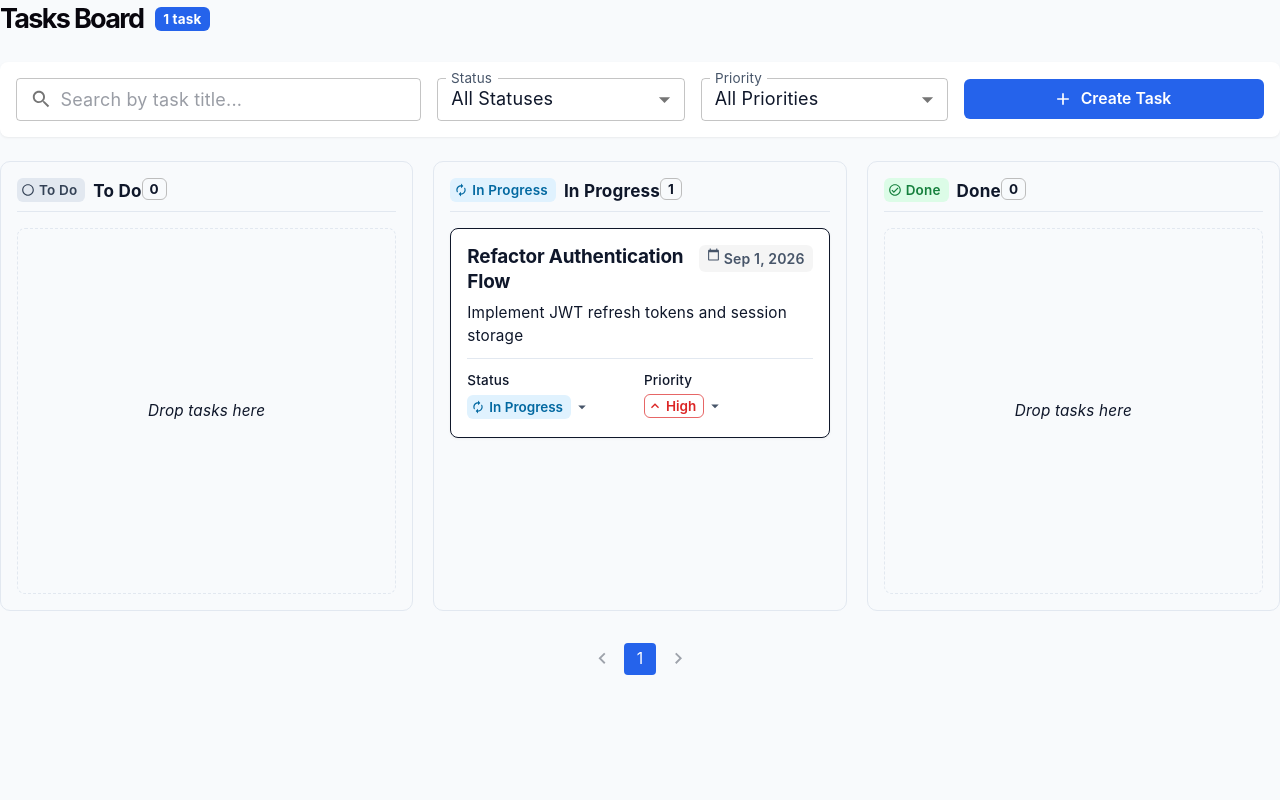
TaskForm Edit Task Functionality › task list update & filter preservation: executes PATCH request and refreshes query cache
This screenshot has width=1280, height=800.
# Open details modal by clicking task title
Click the heading "Refactor Authentication Flow" at (577, 270), box [467, 245, 687, 294]
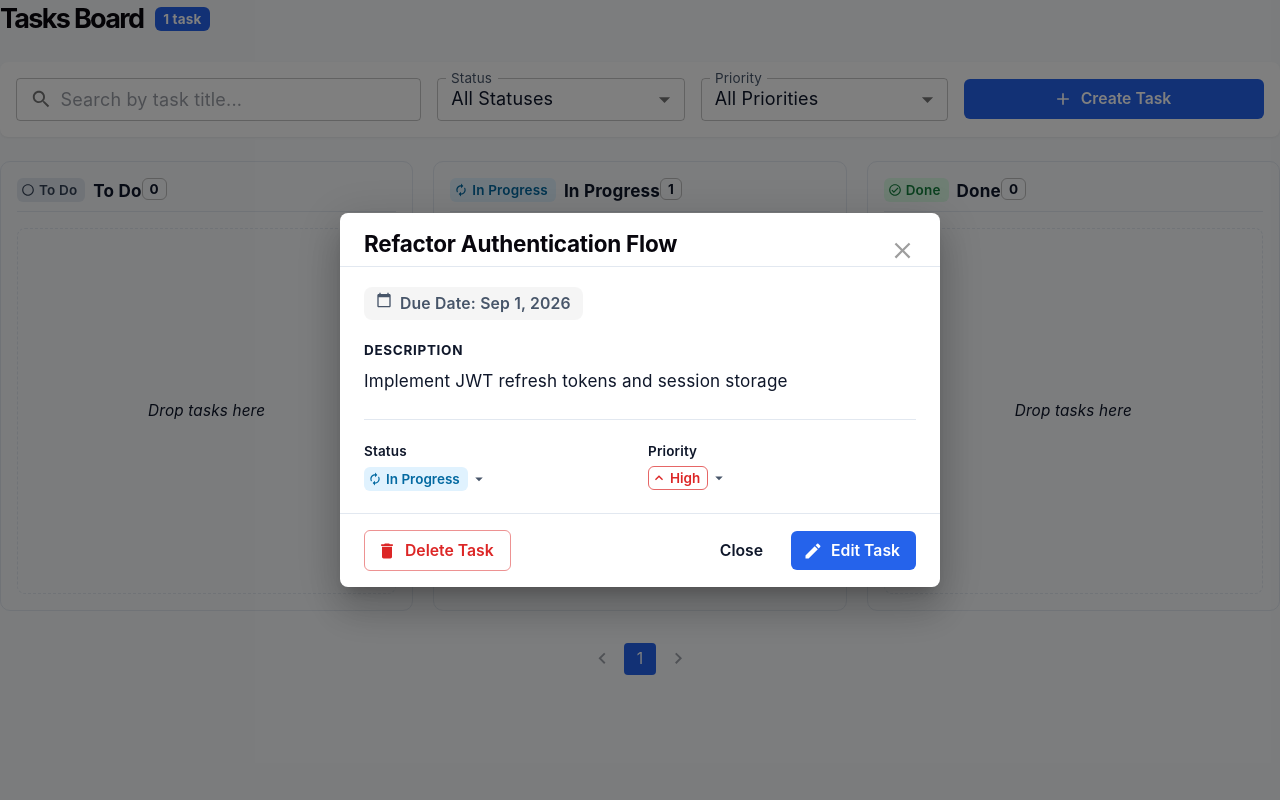
# Click Edit Task button inside details popup modal
Click the button "Edit Task" at (854, 551), box [791, 531, 916, 570]
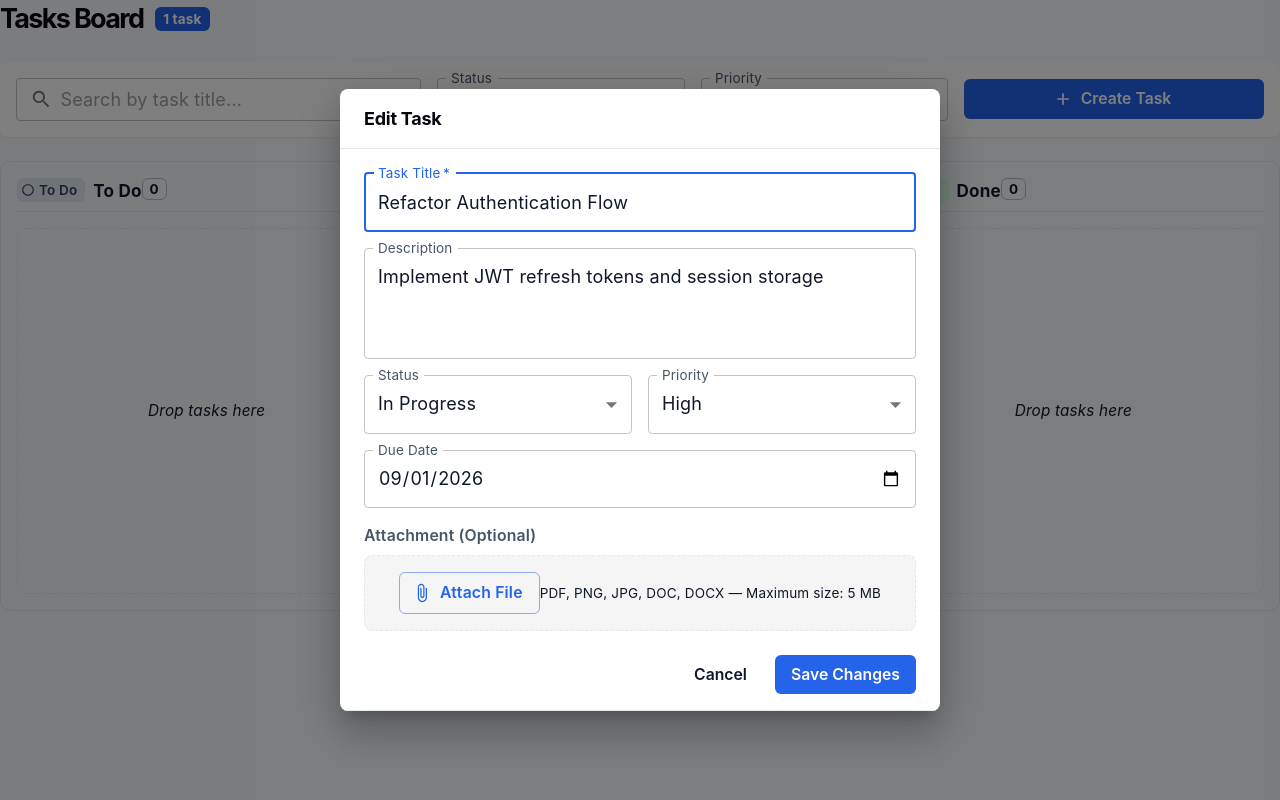
Now the heading "Edit Task" is shown, box [364, 108, 442, 129]
Replace the text in the field labelled "Task Title *" with "Updated Auth Flow" at (640, 202), box [364, 173, 916, 232]
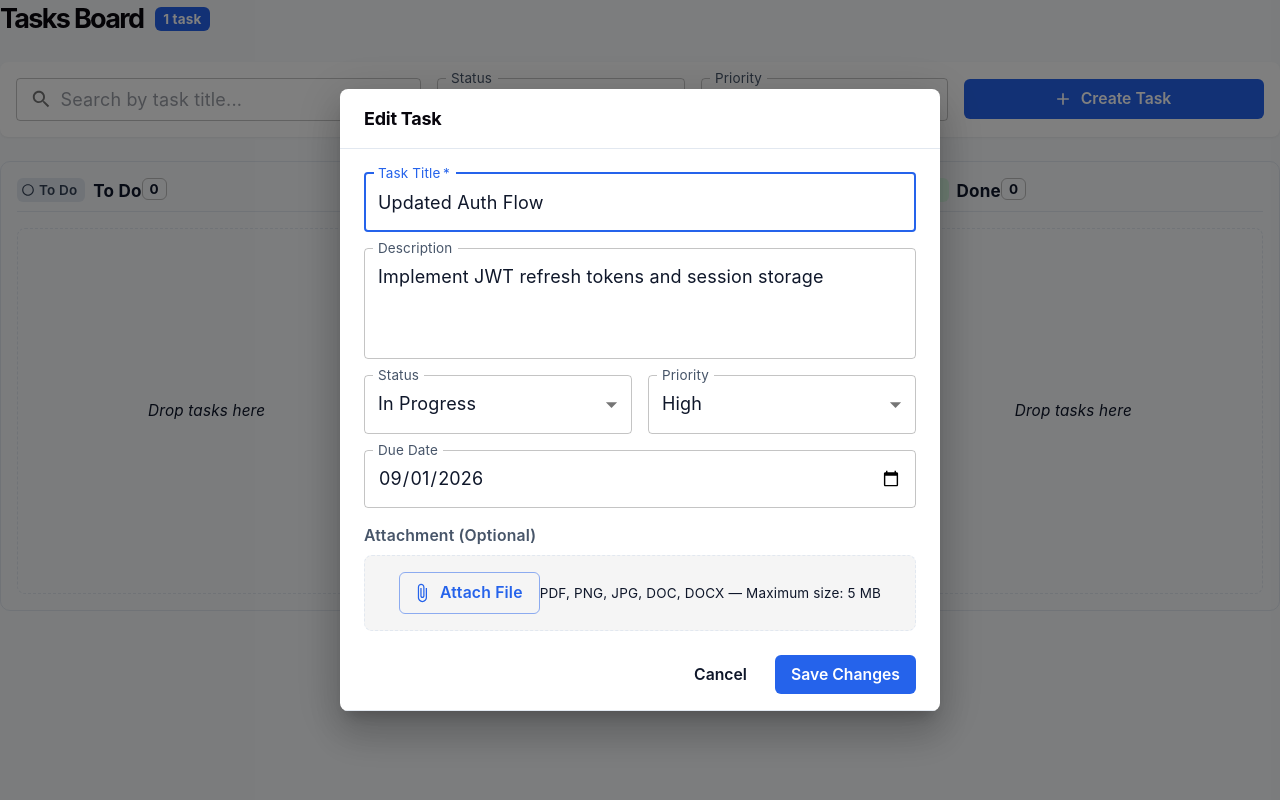
Click the button "Save Changes" at (846, 674), box [775, 655, 916, 694]
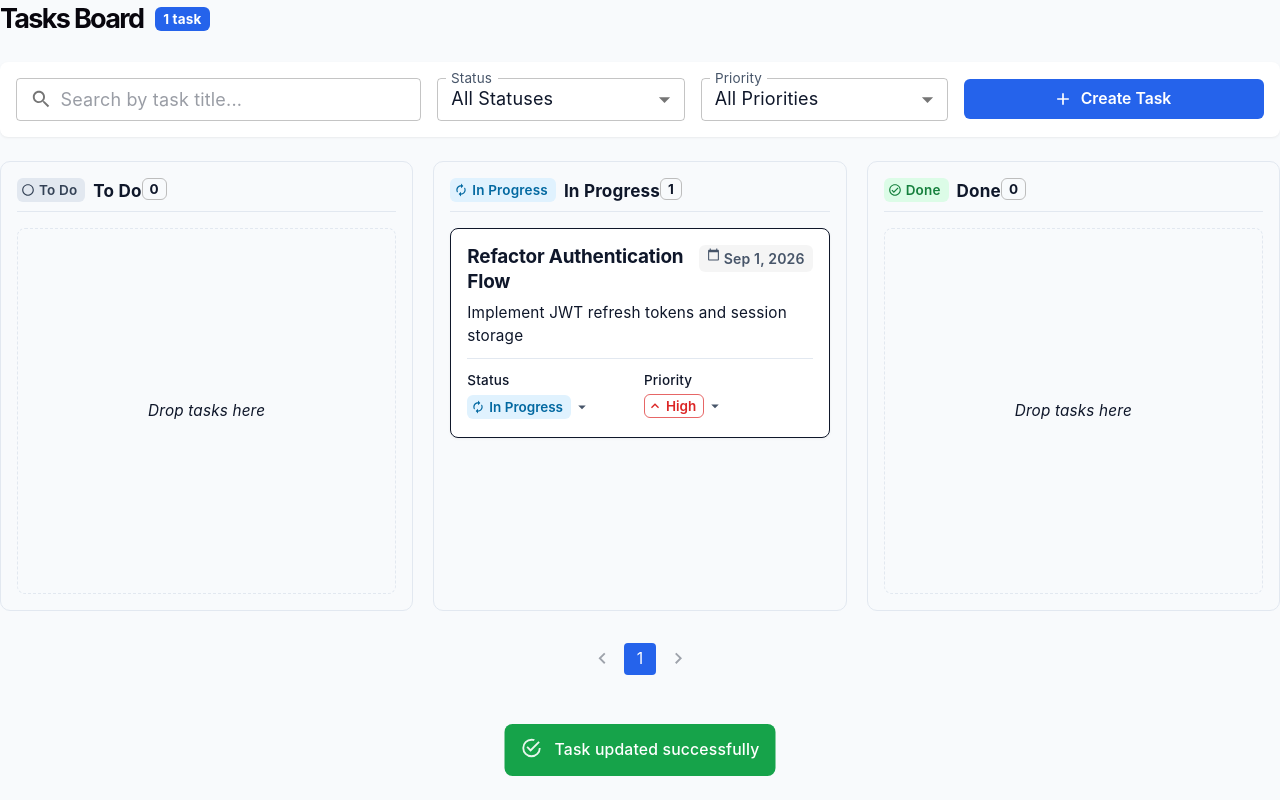
Now the text "Task updated successfully" is shown, box [554, 740, 760, 759]
